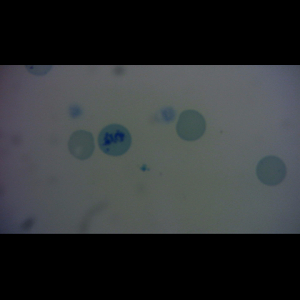aggregate reticulocyte: (97, 123, 131, 157)
erythrocyte: (175, 109, 206, 142), (67, 130, 95, 160)
punctate reticulocyte: (256, 154, 287, 186)
